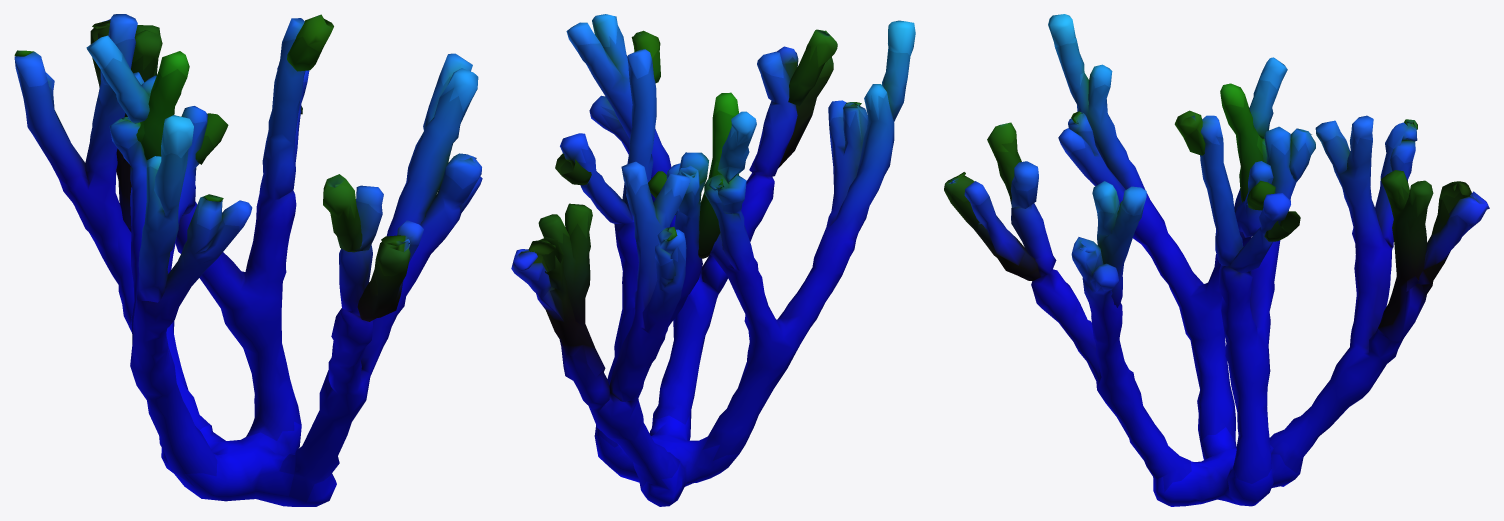
Rendered from MESH_Flora_Coral_Branching_1712.fbx.
3 renders of one model, left to right at view 1: azimuth 30°, elevation 25°; view 2: azimuth 150°, elevation 25°; view 3: azimuth 270°, elevation 25°, orthographic. The views are drawn at different scales.
Parts seen in each view (by area): view 1: MESH_Flora_Coral_Branching_1712_LOD0; view 2: MESH_Flora_Coral_Branching_1712_LOD0; view 3: MESH_Flora_Coral_Branching_1712_LOD0.
Part boxes in pixels (x1,y1,x2,y2): MESH_Flora_Coral_Branching_1712_LOD0: (14, 14, 482, 506); MESH_Flora_Coral_Branching_1712_LOD0: (511, 14, 915, 506); MESH_Flora_Coral_Branching_1712_LOD0: (944, 14, 1489, 506).
Size of what is drawn, in the model's own units: 43.47 by 58.44 by 70.06.
